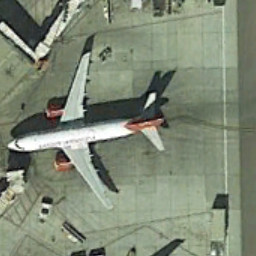Airplane: (2, 43, 175, 228)
